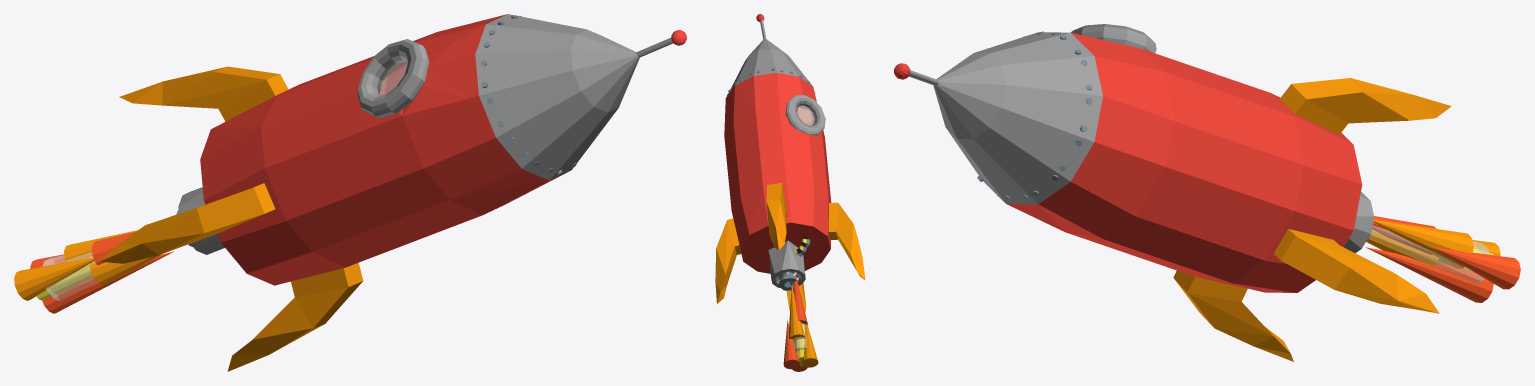
3 views of the same model, side by side, from view 1: azimuth 30°, elevation 25°; view 2: azimuth 150°, elevation 25°; view 3: azimuth 270°, elevation 25° (orthographic). The views are drawn at different scales.
Parts seen in each view (by area): view 1: ship_group860206248; view 2: ship_group860206248; view 3: ship_group860206248.
Part boxes in pixels (box(x1,y1,x2,y2)): ship_group860206248: box(14, 14, 686, 371); ship_group860206248: box(715, 14, 865, 371); ship_group860206248: box(894, 24, 1520, 361).
Bounding box in the file's own units: 1.02 × 1.02 × 1.33.
